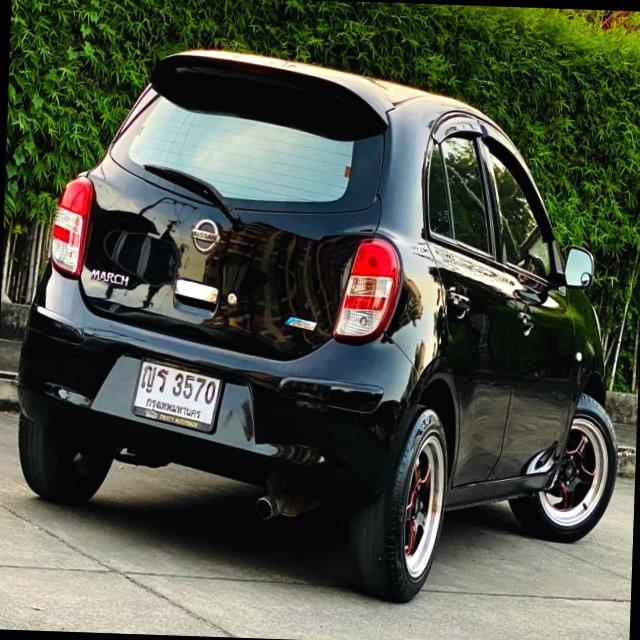license_plate: (126, 347, 229, 436)
